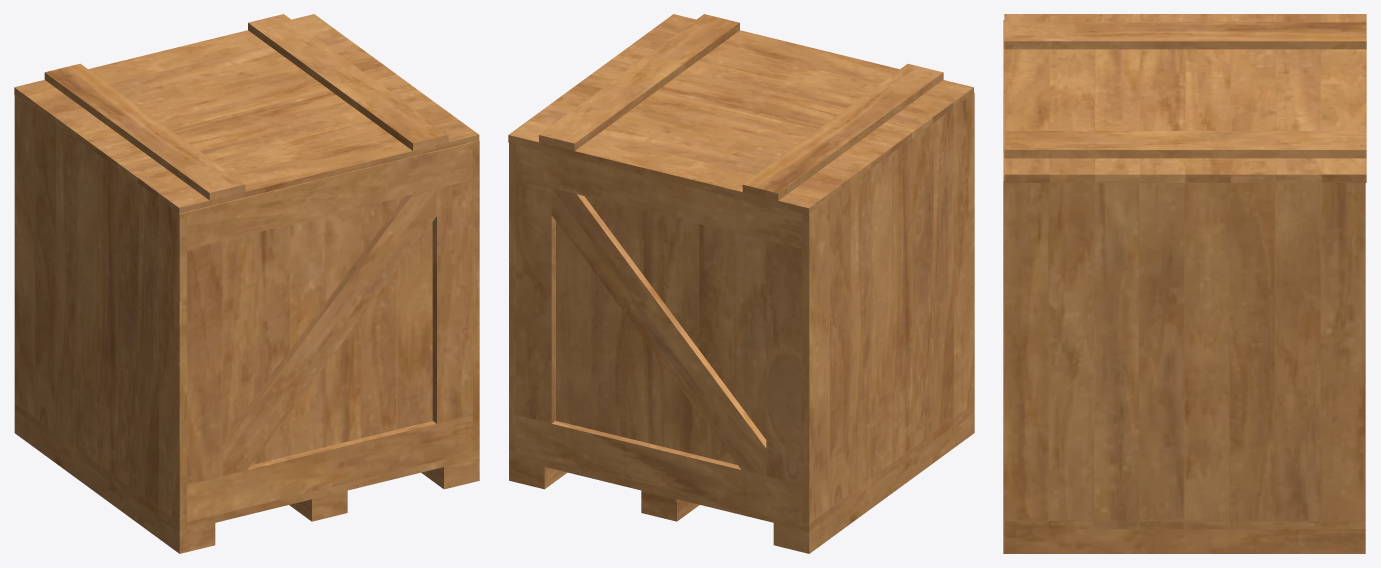
File: crate.glb
3 views of the same model, side by side, from view 1: azimuth 30°, elevation 25°; view 2: azimuth 150°, elevation 25°; view 3: azimuth 270°, elevation 25° (orthographic). The views are drawn at different scales.
Visible parts, largest first — view 1: wooden_crate_02, wooden_crate_lid_02; view 2: wooden_crate_02, wooden_crate_lid_02; view 3: wooden_crate_02, wooden_crate_lid_02.
Boxes of the visible parts, x1,y1,x2,y2 form: wooden_crate_02: (14,93,479,553); wooden_crate_lid_02: (14,14,479,213); wooden_crate_02: (509,92,974,553); wooden_crate_lid_02: (508,14,973,215); wooden_crate_02: (1003,20,1365,553); wooden_crate_lid_02: (1004,14,1366,182).
Bounding box in the file's own units: 0.8075 × 0.9078 × 0.7715.
1 material, 1 textured.
